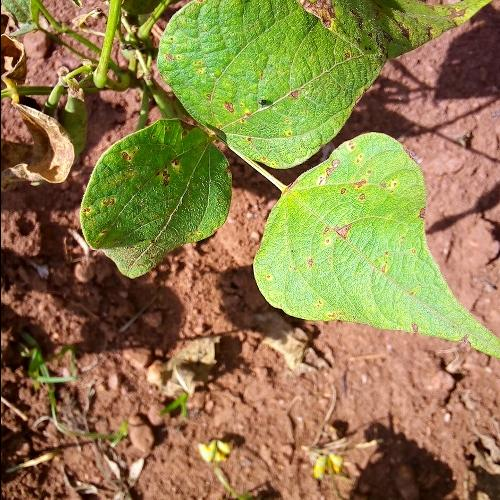hawar: (170, 8, 420, 146), (299, 164, 414, 298), (114, 148, 180, 260)
